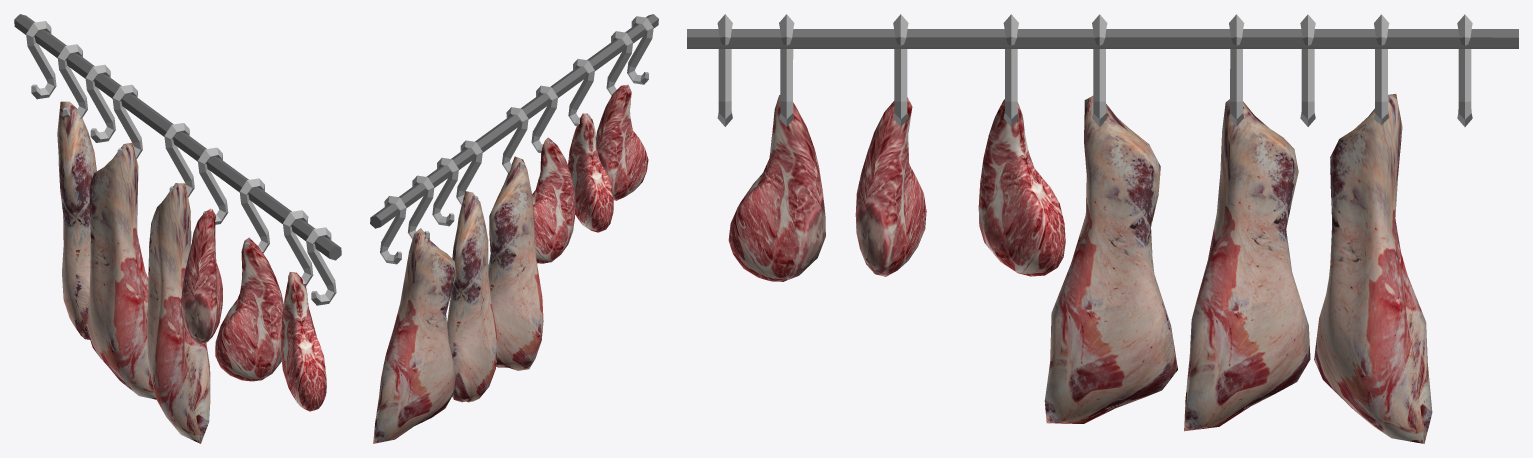
The model's file is hanging meat.fbx.
3 views of the same model, side by side, from view 1: azimuth 30°, elevation 25°; view 2: azimuth 150°, elevation 25°; view 3: azimuth 270°, elevation 25° (orthographic). The views are drawn at different scales.
Parts seen in each view (by area): view 1: Icosphere; view 2: Icosphere; view 3: Icosphere.
Part boxes in pixels (x1,y1,x2,y2): Icosphere: [14, 14, 341, 443]; Icosphere: [370, 14, 658, 443]; Icosphere: [687, 14, 1518, 443].
Bounding box in the file's own units: 119 × 431 × 804.
